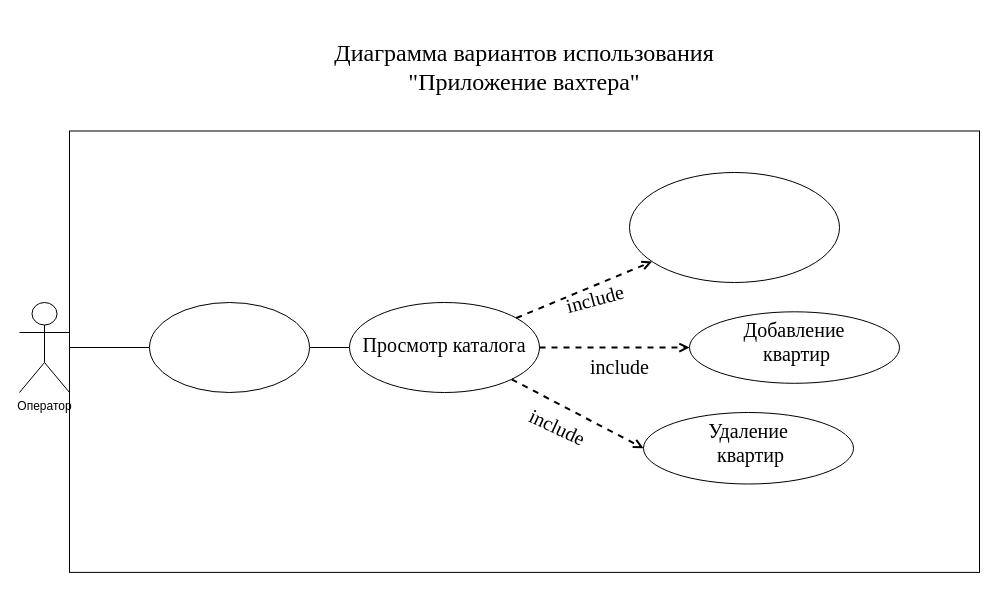
Image size: 997x590. Some labels were removed from this diagram. The shapes that lost their labels are listed below. From the top down, each one's centre as x and y in pixels, then its label:
the point at 734,227: Просмотр данных выбранной квартиры
the point at 229,347: Авторизация
